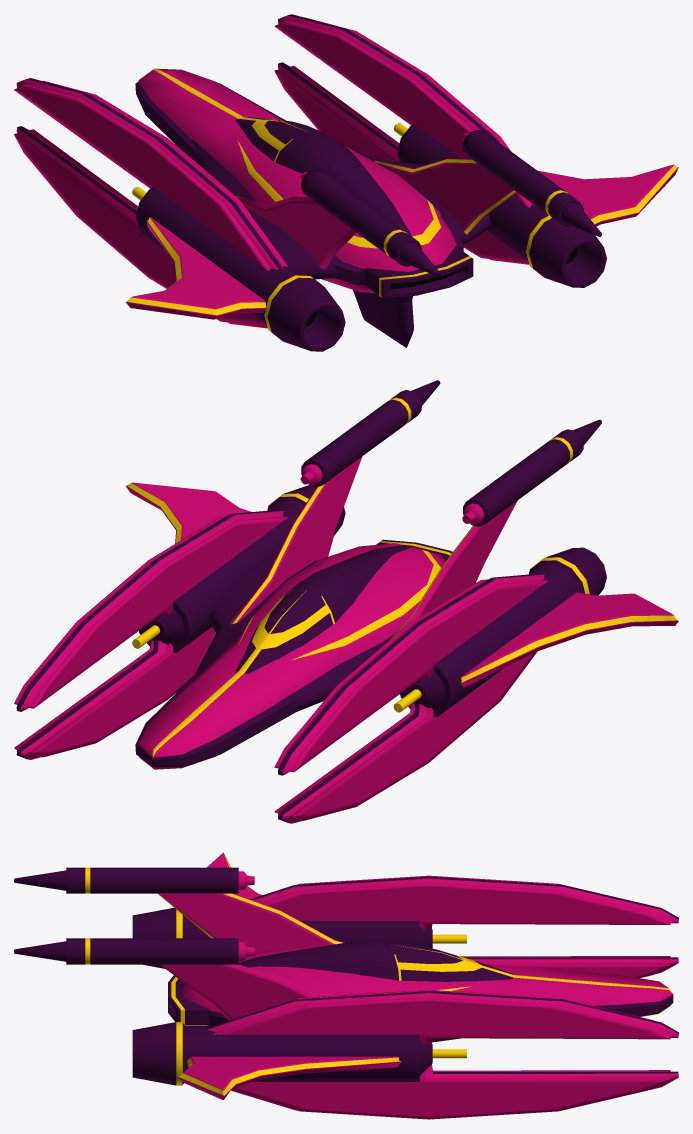
The model's file is AlienStarfighter17.obj.
The picture shows the model from 3 angles, top to bottom: view 1: azimuth 30°, elevation 25°; view 2: azimuth 150°, elevation 25°; view 3: azimuth 270°, elevation 25°; orthographic projection. The views are drawn at different scales.
Visible parts, largest first — view 1: Cylinder.003_Cylinder.005, Sphere.002_Sphere.004, Cylinder.001_Cylinder.006, Cube.002_Cube.003, Cylinder.004_Cylinder.002, Cube.001, Sphere.001_Sphere.003, Cylinder.010_Cylinder.003, Cylinder.006_Cylinder.007; view 2: Cylinder.003_Cylinder.005, Sphere.002_Sphere.004, Cylinder.001_Cylinder.006, Cube.002_Cube.003, Cylinder.004_Cylinder.002, Cube.001, Sphere.001_Sphere.003, Cylinder.010_Cylinder.003; view 3: Cylinder.003_Cylinder.005, Cylinder.001_Cylinder.006, Sphere.002_Sphere.004, Cylinder.004_Cylinder.002, Cube.001, Sphere.001_Sphere.003, Cube.002_Cube.003.
Part boxes in pixels (x1,y1,x2,y2): Cylinder.003_Cylinder.005: (14, 14, 534, 328); Sphere.002_Sphere.004: (135, 68, 473, 298); Cylinder.001_Cylinder.006: (132, 123, 606, 351); Cube.002_Cube.003: (125, 164, 678, 319); Cylinder.004_Cylinder.002: (300, 129, 601, 276); Cube.001: (236, 158, 515, 269); Sphere.001_Sphere.003: (235, 117, 411, 236); Cylinder.010_Cylinder.003: (188, 139, 491, 279); Cylinder.006_Cylinder.007: (353, 290, 413, 347); Cylinder.003_Cylinder.005: (14, 509, 548, 823); Sphere.002_Sphere.004: (135, 539, 452, 769); Cylinder.001_Cylinder.006: (132, 485, 606, 716); Cube.002_Cube.003: (126, 482, 678, 687); Cylinder.004_Cylinder.002: (300, 380, 601, 526); Cube.001: (230, 456, 517, 642); Sphere.001_Sphere.003: (235, 545, 411, 673); Cylinder.010_Cylinder.003: (193, 558, 393, 711); Cylinder.003_Cylinder.005: (207, 875, 678, 1119); Cylinder.001_Cylinder.006: (132, 908, 466, 1085); Sphere.002_Sphere.004: (168, 949, 673, 1025); Cylinder.004_Cylinder.002: (14, 867, 254, 964); Cube.001: (158, 893, 344, 1020); Sphere.001_Sphere.003: (238, 940, 515, 981); Cube.002_Cube.003: (178, 852, 401, 1100).
Size of the model in its own units: 6.8 by 2.25 by 7.88.
